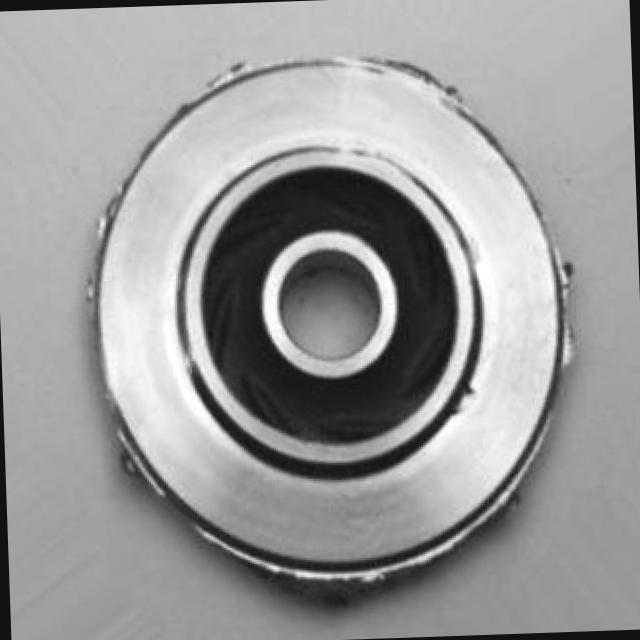Defect: (394, 52, 423, 86)
